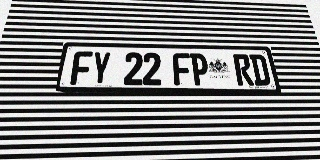2: (124, 52, 143, 85), (143, 52, 161, 85)
D: (249, 54, 271, 86)
F: (70, 51, 93, 85), (173, 53, 192, 85)
P: (190, 53, 210, 85)
R: (233, 54, 254, 85)
Y: (90, 51, 111, 85)
